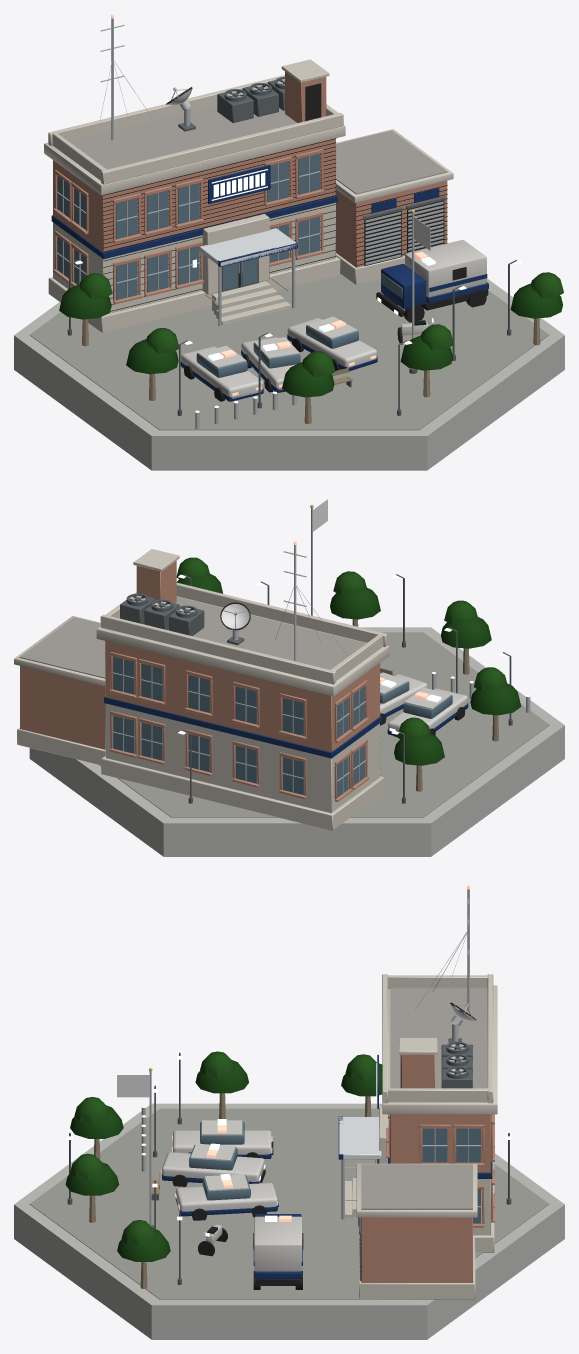
File: policeStation.glb
3 renders of one model, top to bottom at view 1: azimuth 30°, elevation 25°; view 2: azimuth 150°, elevation 25°; view 3: azimuth 270°, elevation 25°, orthographic. The views are drawn at different scales.
Visible parts, largest first — view 1: pavers, wall_concrete, stone, brick, paint, glass, gravel, leaf, dark, metal, steel_dark, cladding (+2 smaller); view 2: stone, wall_concrete, brick, pavers, glass, leaf, gravel, paint, steel_dark, metal, wood; view 3: pavers, wall_concrete, stone, brick, gravel, paint, leaf, glass, steel_dark, metal, dark, cladding (+2 smaller).
Boxes of the visible parts, x1=… form: pavers: x1=30, y1=274, x2=548, y2=430; wall_concrete: x1=14, y1=156, x2=564, y2=470; stone: x1=44, y1=59, x2=453, y2=332; brick: x1=53, y1=71, x2=447, y2=304; paint: x1=51, y1=87, x2=488, y2=401; glass: x1=57, y1=154, x2=402, y2=377; gravel: x1=69, y1=105, x2=447, y2=194; leaf: x1=59, y1=272, x2=563, y2=397; dark: x1=103, y1=81, x2=488, y2=401; metal: x1=92, y1=18, x2=443, y2=428; steel_dark: x1=67, y1=76, x2=516, y2=415; cladding: x1=199, y1=228, x2=297, y2=266; stone: x1=14, y1=549, x2=389, y2=830; wall_concrete: x1=29, y1=627, x2=564, y2=856; brick: x1=20, y1=561, x2=379, y2=801; pavers: x1=99, y1=632, x2=549, y2=817; glass: x1=113, y1=656, x2=452, y2=797; leaf: x1=176, y1=557, x2=521, y2=765; gravel: x1=19, y1=597, x2=366, y2=678; paint: x1=104, y1=603, x2=468, y2=758; steel_dark: x1=120, y1=574, x2=512, y2=803; metal: x1=129, y1=508, x2=530, y2=712; wood: x1=352, y1=619, x2=498, y2=791; pavers: x1=29, y1=1108, x2=549, y2=1299; wall_concrete: x1=14, y1=1103, x2=564, y2=1339; stone: x1=345, y1=974, x2=497, y2=1299; brick: x1=361, y1=1054, x2=494, y2=1282; gravel: x1=361, y1=988, x2=487, y2=1209; paint: x1=162, y1=1003, x2=492, y2=1278; leaf: x1=65, y1=1051, x2=382, y2=1261; glass: x1=189, y1=1121, x2=480, y2=1223; steel_dark: x1=67, y1=1038, x2=511, y2=1284; metal: x1=141, y1=889, x2=471, y2=1279; dark: x1=172, y1=1002, x2=476, y2=1289; cladding: x1=339, y1=1117, x2=381, y2=1159.
Bounding box in the file's own units: 21.3 × 15.3 × 24.6.
